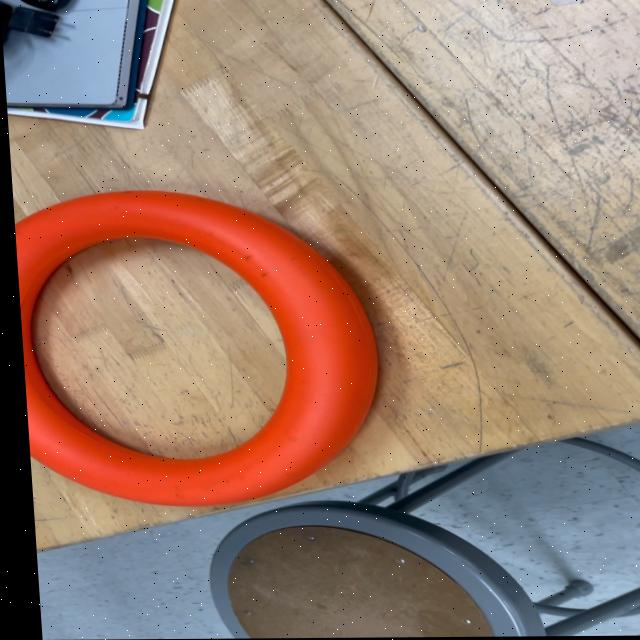note: (10, 187, 381, 509)
